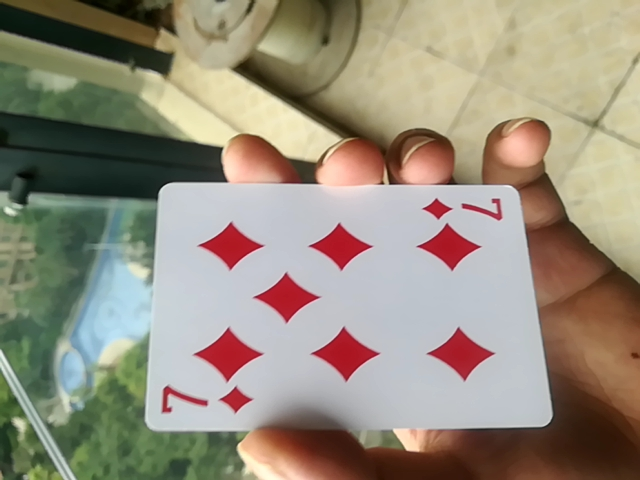fk 7: (135, 174, 550, 444)
